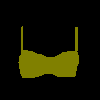reggiseno: (18, 25, 79, 78)
